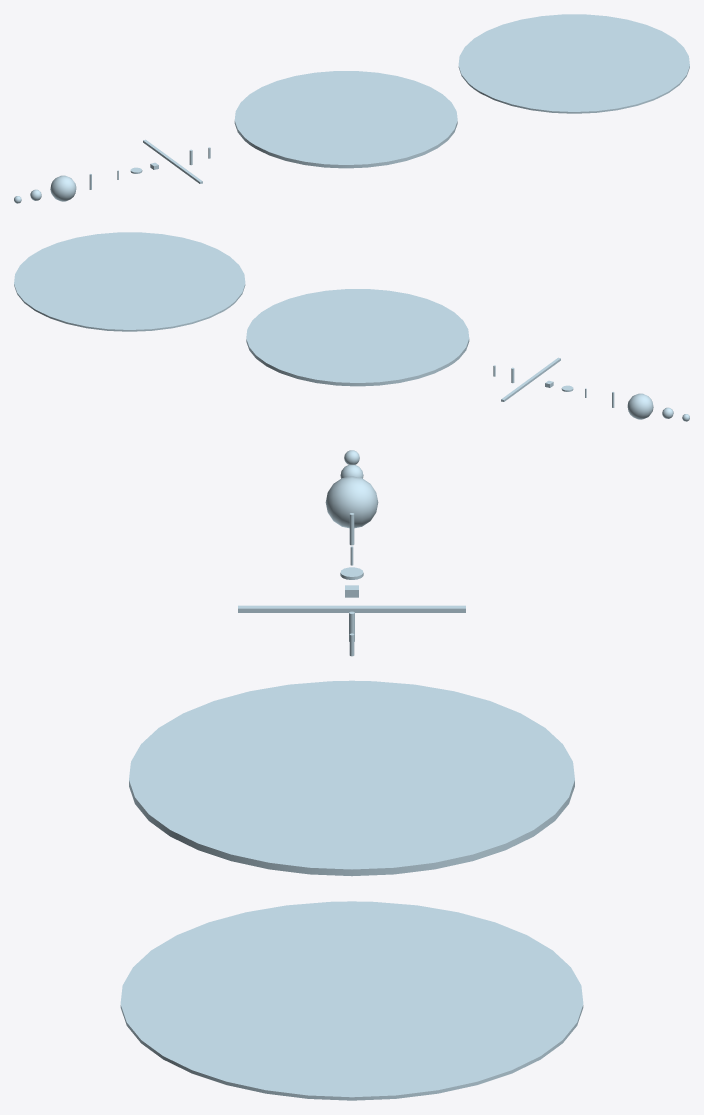
Rendered from agrokruh_kit.glb.
3 renders of one model, top to bottom at view 1: azimuth 30°, elevation 25°; view 2: azimuth 150°, elevation 25°; view 3: azimuth 270°, elevation 25°, orthographic. The views are drawn at different scales.
Parts seen in each view (by area): view 1: Agro soil bed, Agro crop pad, Tree canopy, Agro arm boom; view 2: Agro soil bed, Agro crop pad, Tree canopy, Agro arm boom; view 3: Agro soil bed, Agro crop pad, Tree canopy, Agro arm boom.
Boxes of the visible parts, x1=… form: Agro soil bed: x1=458, y1=14, x2=689, y2=113; Agro crop pad: x1=234, y1=71, x2=457, y2=168; Tree canopy: x1=50, y1=175, x2=76, y2=201; Agro arm boom: x1=143, y1=139, x2=202, y2=183; Agro soil bed: x1=14, y1=232, x2=245, y2=331; Agro crop pad: x1=246, y1=289, x2=469, y2=386; Tree canopy: x1=627, y1=393, x2=653, y2=419; Agro arm boom: x1=501, y1=357, x2=560, y2=401; Agro soil bed: x1=120, y1=901, x2=583, y2=1100; Agro crop pad: x1=129, y1=680, x2=574, y2=876; Tree canopy: x1=325, y1=476, x2=378, y2=528; Agro arm boom: x1=238, y1=605, x2=465, y2=612.
Bounding box in the file's own units: 72.35 × 2.5 × 21.98.
